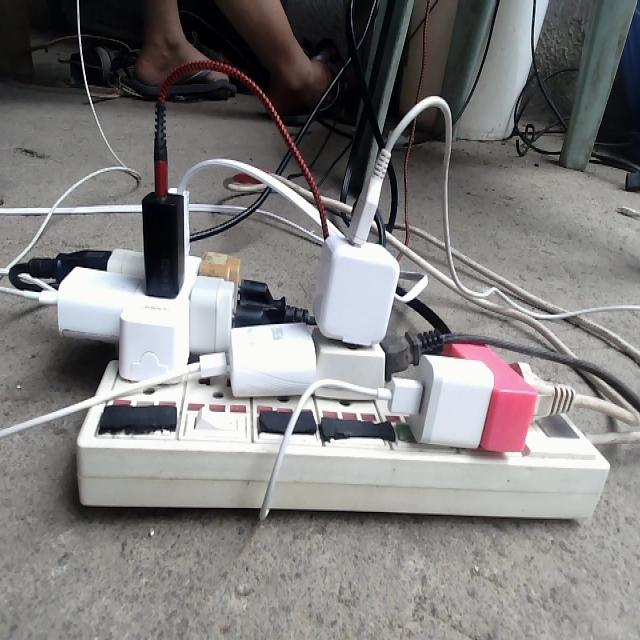-: (15, 56, 622, 553)
